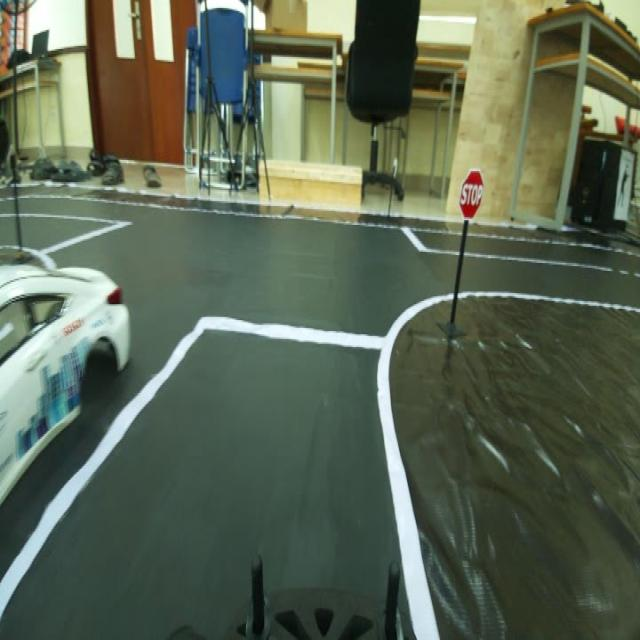car: (0, 238, 132, 436)
stop: (458, 168, 488, 223)
